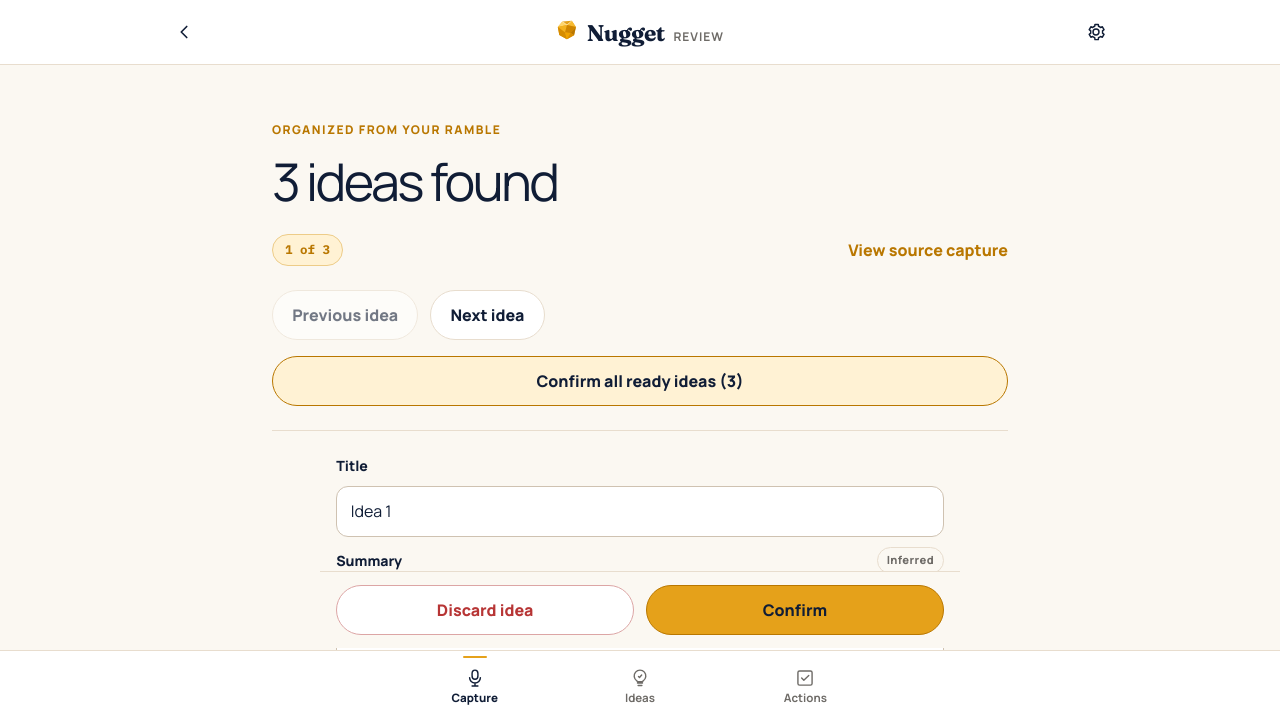
Test: ReviewScreen multi-idea confirmation › stops confirm-all at the first failure, preserves the failed edit, and retries the remainder in order
Expected: the heading "3 ideas found" is shown, [272, 146, 557, 217]
Click the button "Next idea": (487, 315) [430, 290, 545, 340]
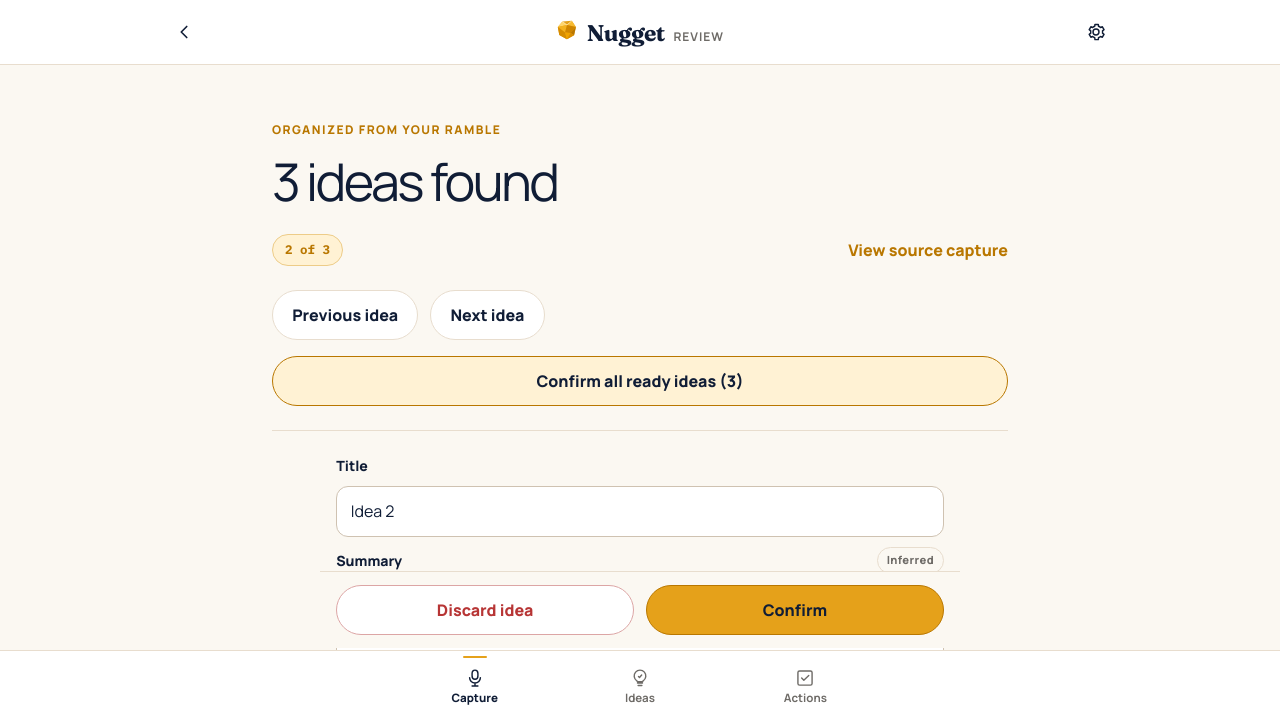
Replace the text in the field labelled "Title" with "Edited second idea": (640, 512) [336, 486, 944, 537]
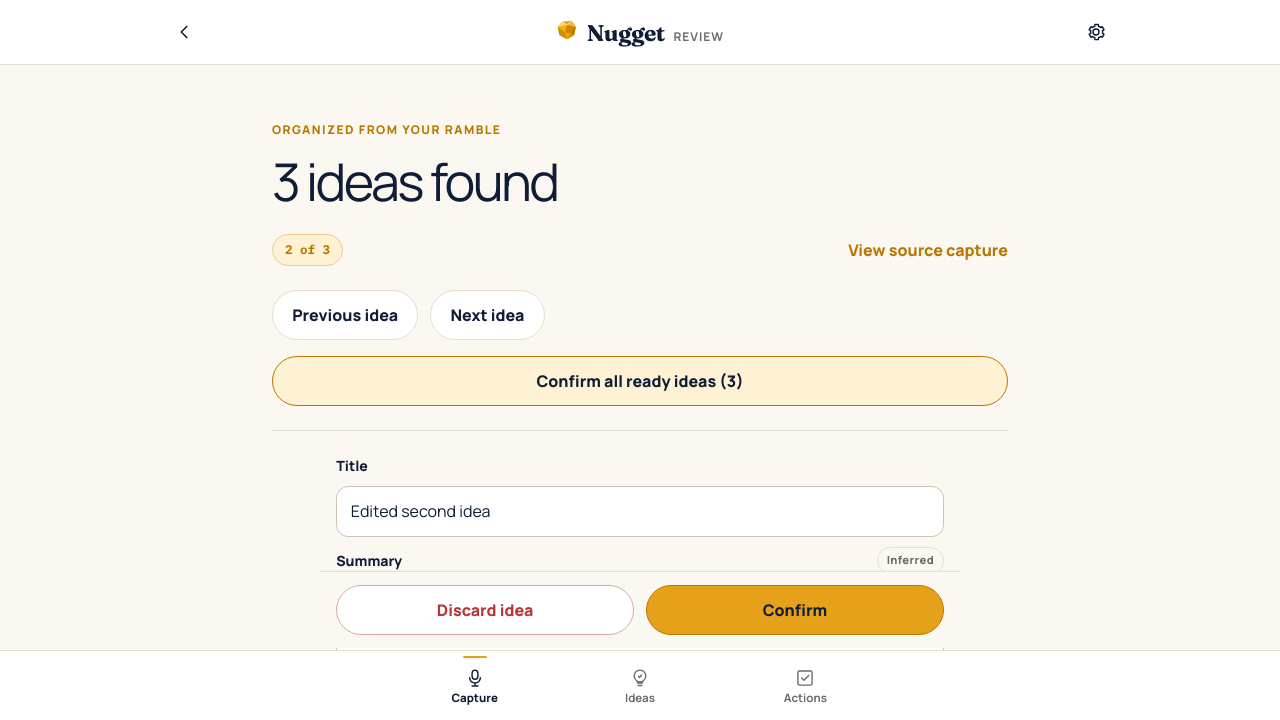
Click the button "Previous idea": (345, 315) [272, 290, 418, 340]
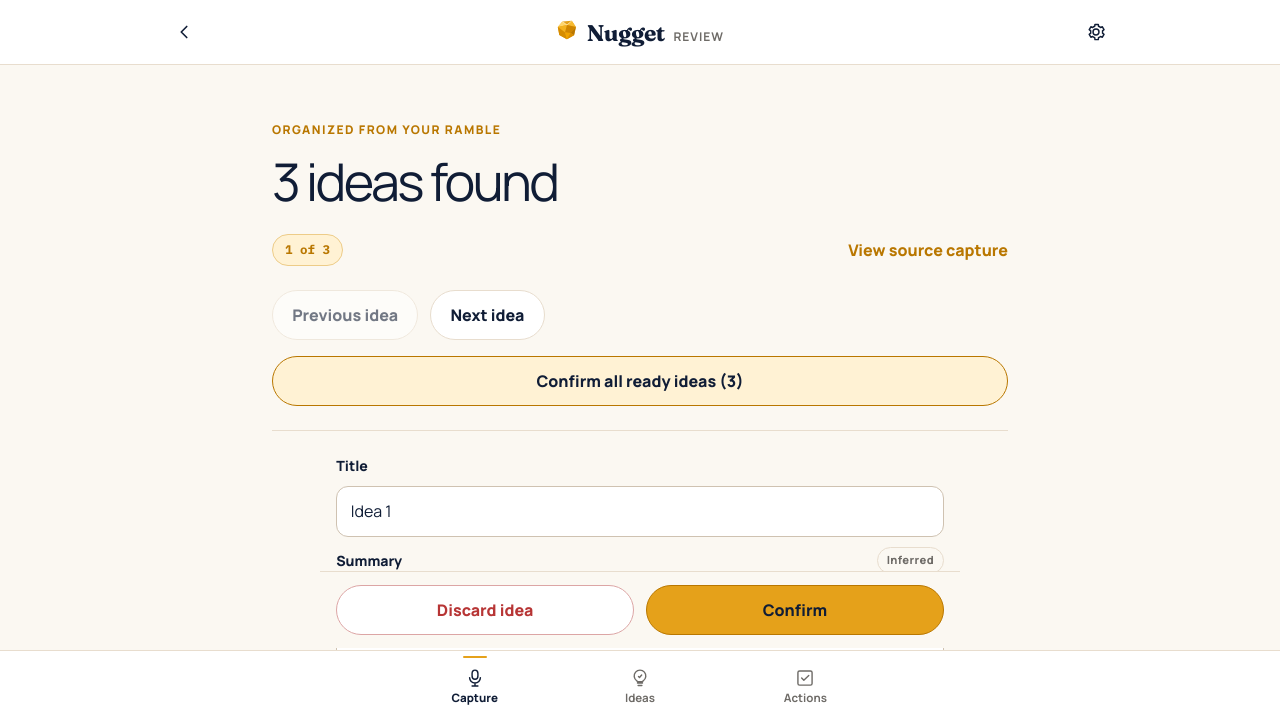
Click the button "Confirm all ready ideas (3)": (640, 381) [272, 356, 1008, 406]
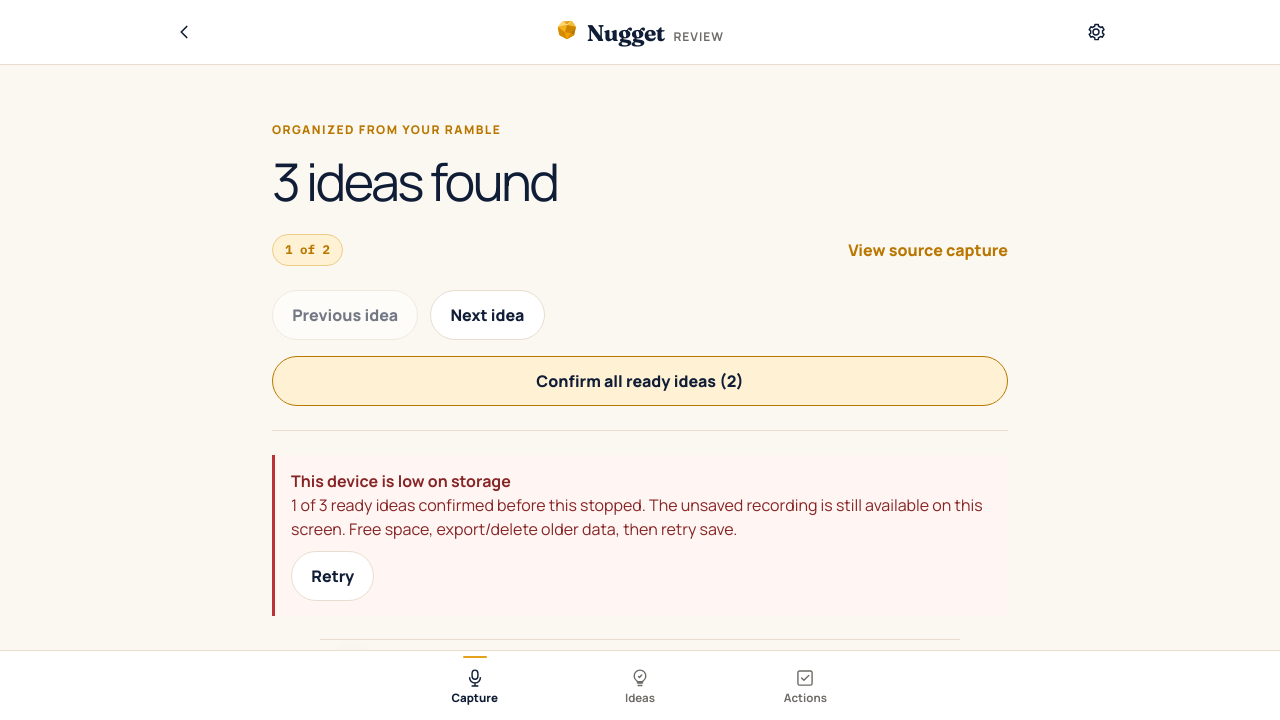
Expected: the message does not show "quota write failed", [272, 455, 1008, 616]
Now the message shows "This device is low on storage", box [291, 470, 511, 492]
Click the button "Retry": (333, 576) [291, 551, 374, 601]
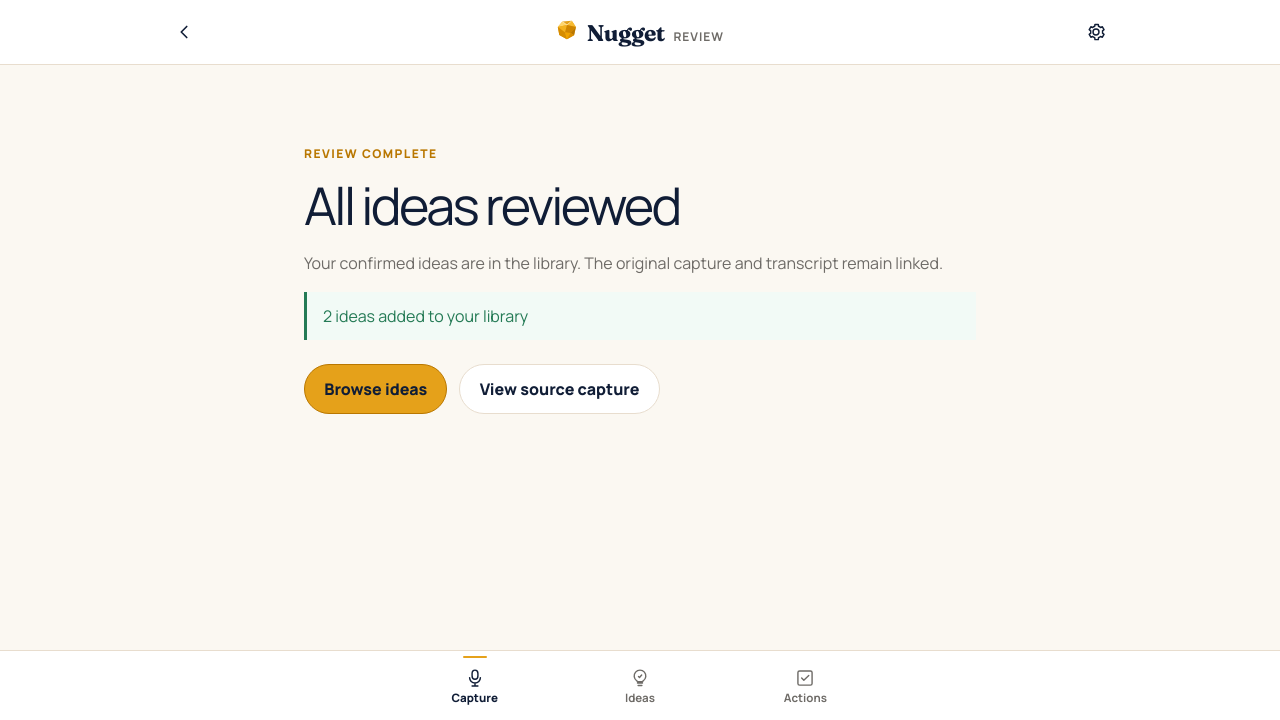
Now the heading "All ideas reviewed" is shown, box [304, 170, 680, 241]
